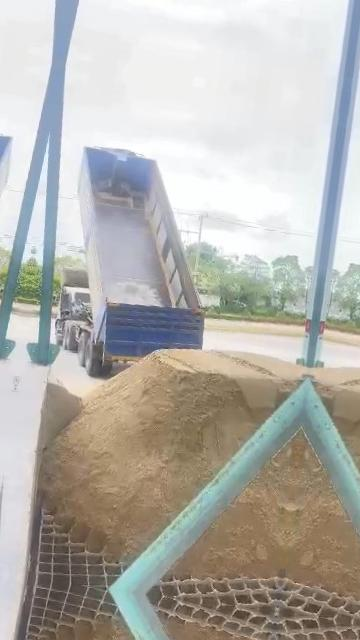sand: (41, 350, 308, 559), (175, 437, 300, 577), (39, 379, 82, 449)
